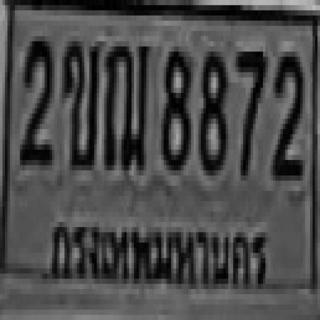A02: (61, 36, 98, 165)
A12: (102, 39, 149, 168)
N02: (19, 34, 51, 162), (272, 46, 301, 176)
N07: (233, 46, 265, 176)
N08: (159, 41, 189, 165), (197, 47, 227, 170)
P04: (48, 210, 273, 293)
